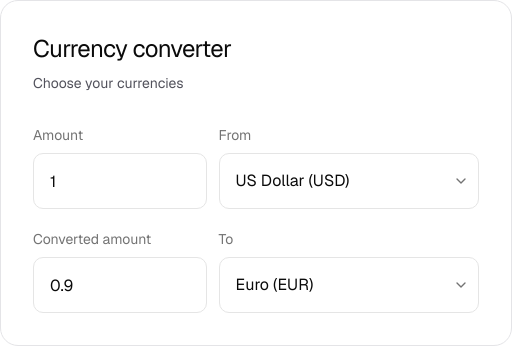
it: currency converter › keeps the latest result when an older request finishes last
expect the number field labelled "Converted amount" holds "0.9": met, box [33,257,207,313]
Replace the text in the number field labelled "Amount" with "10" at (120, 181), box [33,153,207,209]
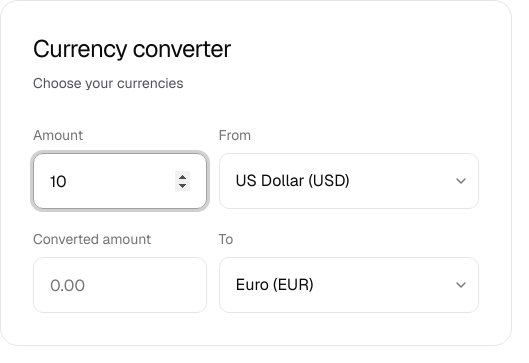
Replace the text in the number field labelled "Amount" with "100" at (120, 181), box [33,153,207,209]
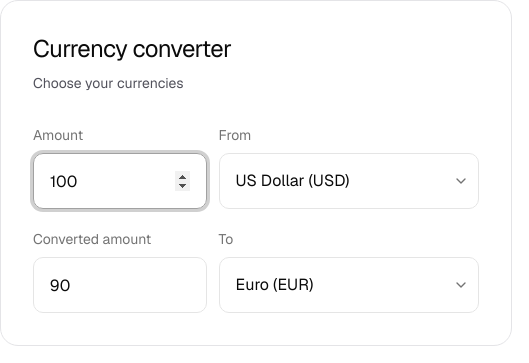
expect the number field labelled "Converted amount" holds "90": met, box [33,257,207,313]
